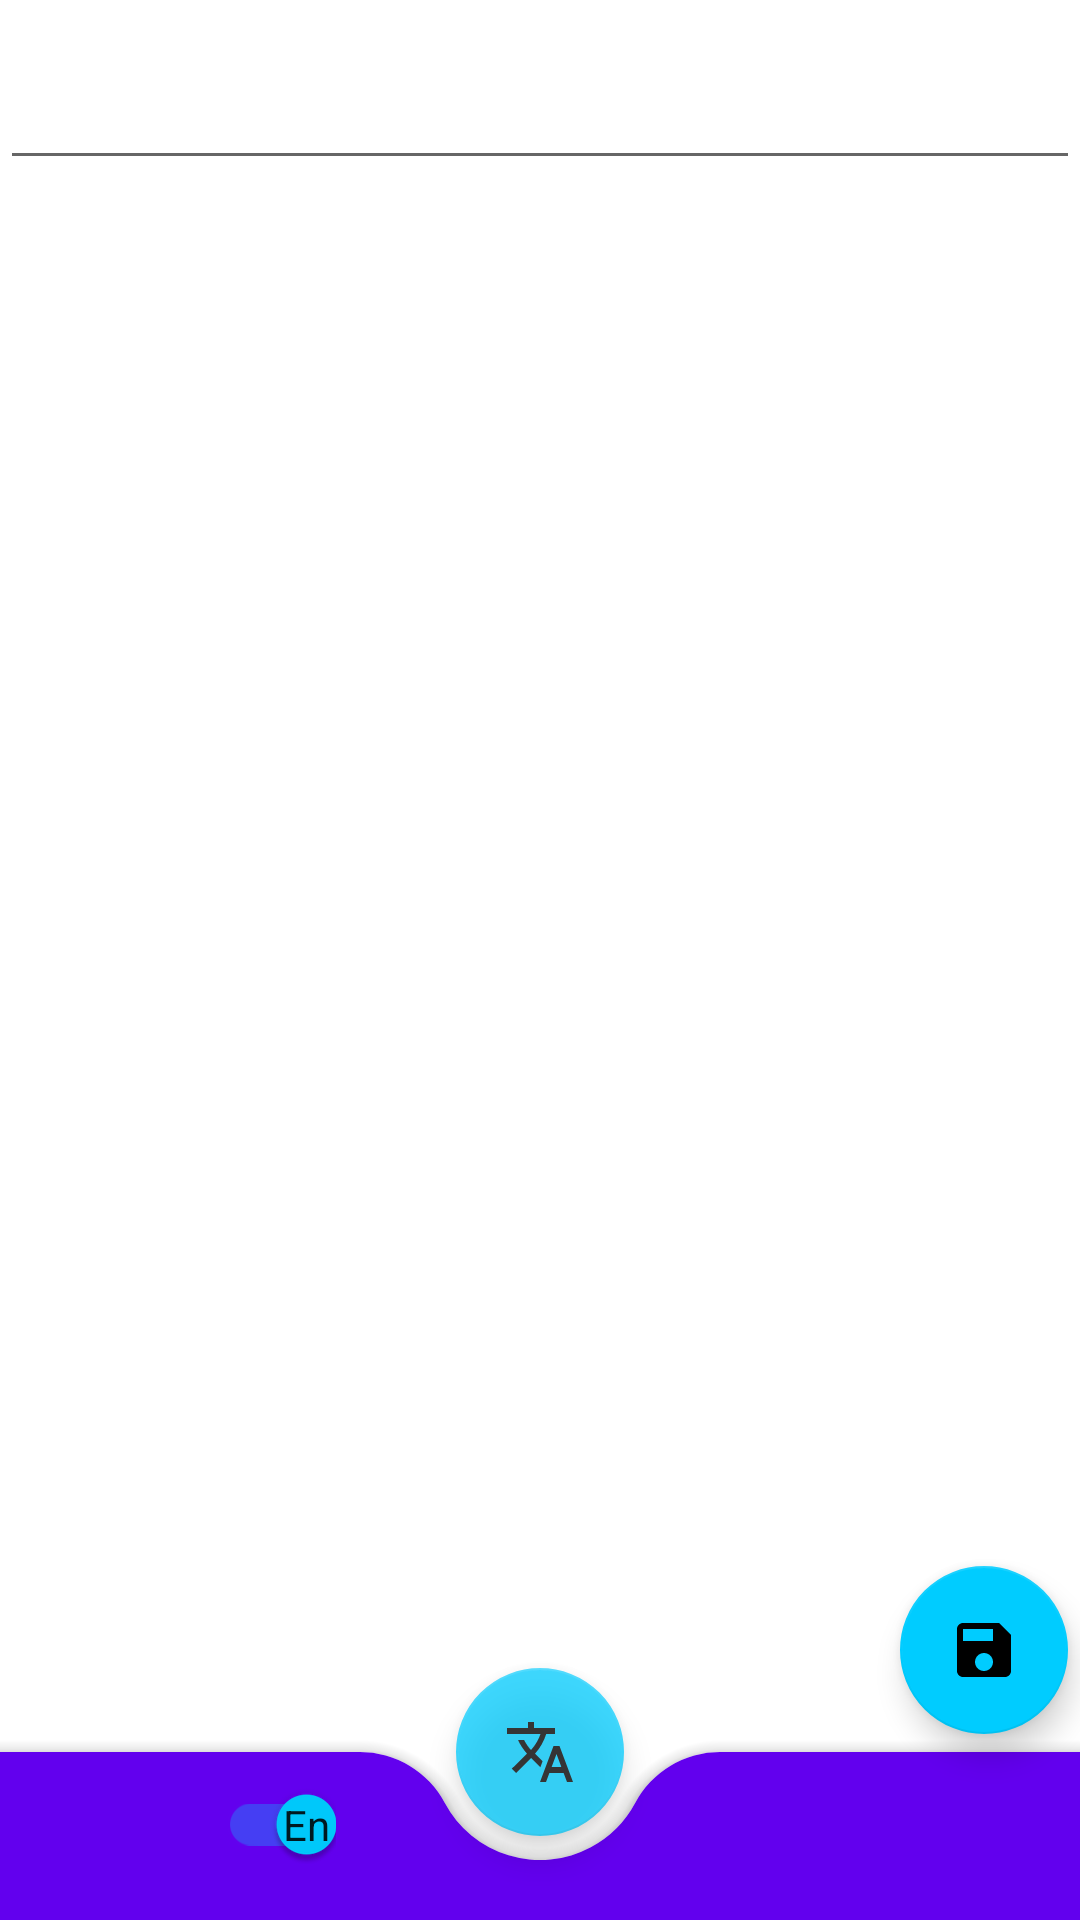

Named icons in this screenshot (1080 x 1920) and their centers, (x,y):
save word: (984,1650)
translate: (540,1752)
